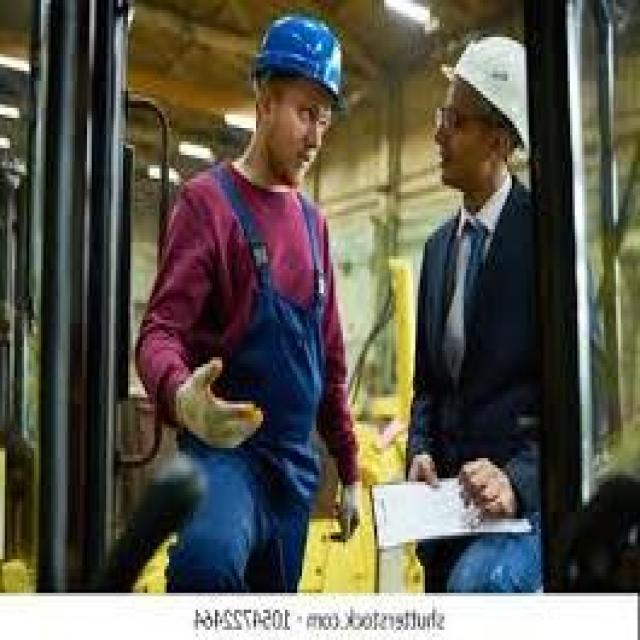Reflective-Jacket: (135, 158, 355, 465)
Safety-Helmet: (237, 7, 362, 121), (435, 27, 543, 152)
